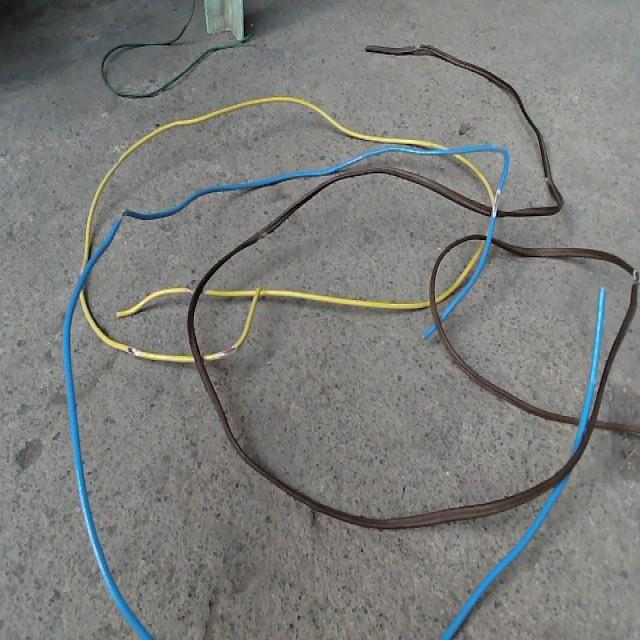-: (490, 185, 502, 220), (217, 344, 237, 357), (125, 343, 141, 356)
